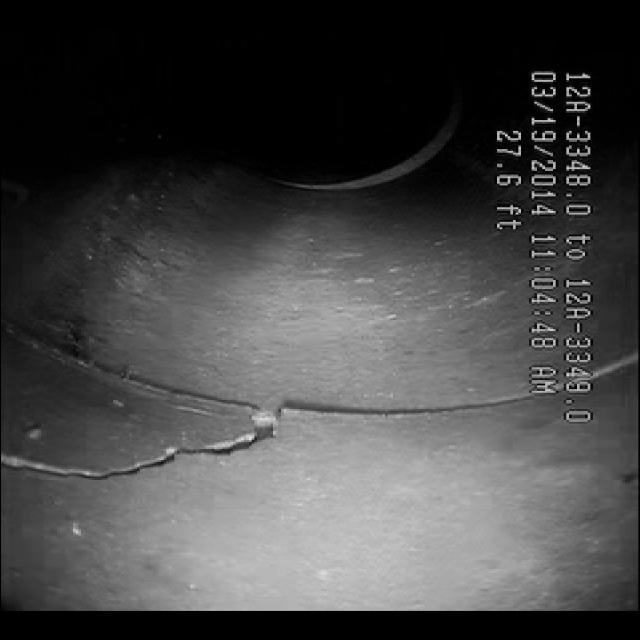Crack: (54, 377, 308, 506)
